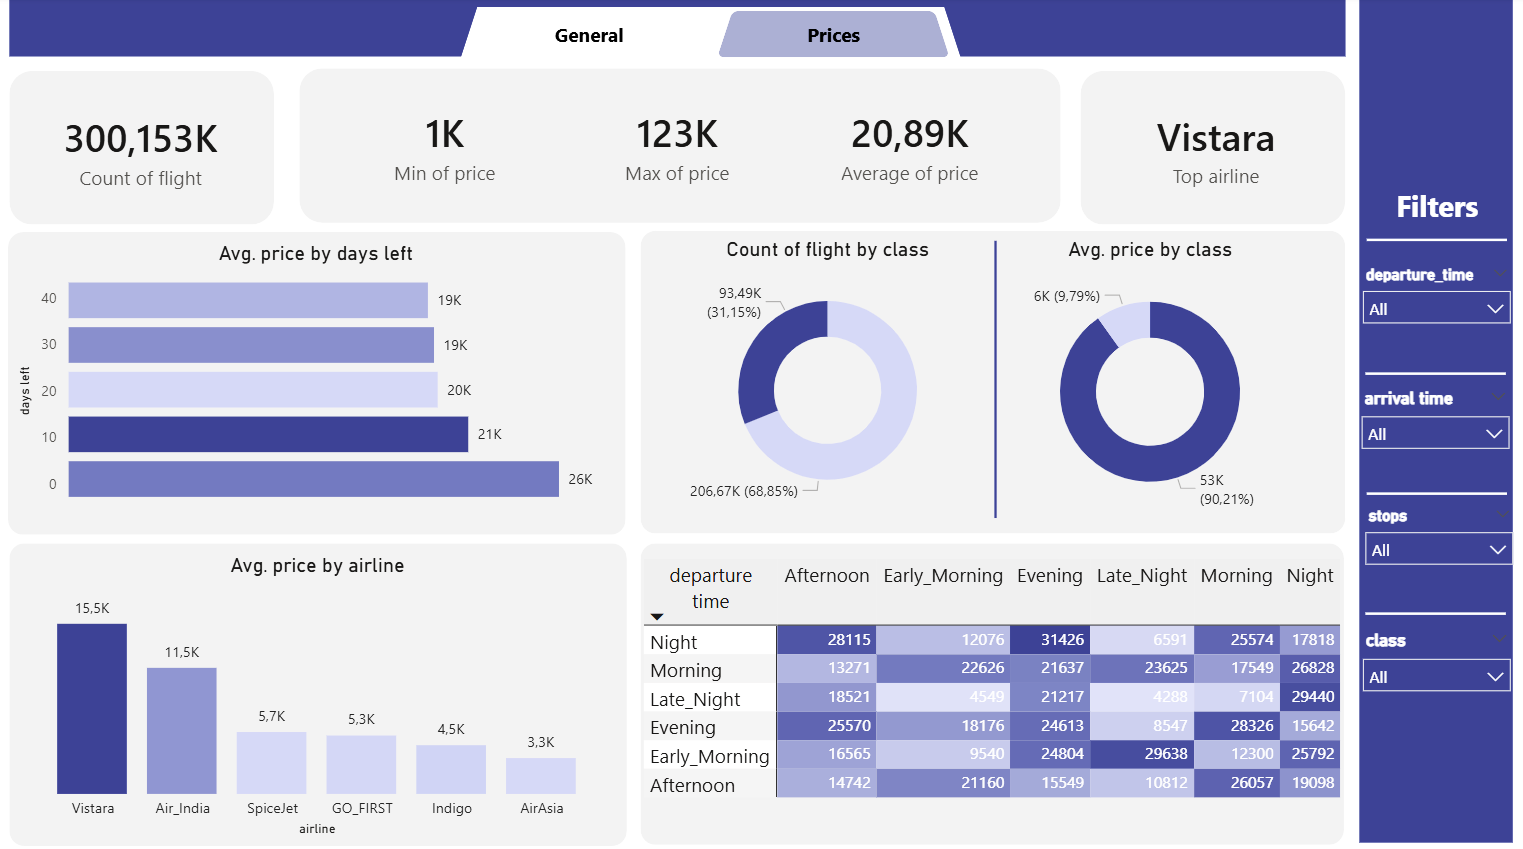

The page's visual inventory and layout, read from the dashboard file:
{"tool":"powerbi","page":{"name":"Prices ","canvas":[1280,720],"ordinal":1},"visuals":[{"type":"shape","box":[9.6,458,518,254],"z":0},{"type":"shape","box":[8.4,196.9,518,254],"z":1000},{"type":"shape","box":[538.4,196,591,254],"z":2000},{"type":"shape","box":[538.4,458,590,253],"z":3000},{"type":"shape","box":[1141.9,0,129.1,709.3],"z":4000},{"type":"shape","box":[9.3,61.6,222.1,129.1],"z":5000},{"type":"shape","box":[908.1,61.6,222.1,129.1],"z":6000},{"type":"shape","box":[252.2,60,638.8,129.7],"z":7000},{"type":"cardVisual","fields":{"Data":["CountNonNull(airlines_flights_data.flight)"]},"box":[4.7,27.9,231.4,201.2],"z":8000},{"type":"cardVisual","fields":{"Data":["Min(airlines_flights_data.price)","Max(airlines_flights_data.price)1","Avg(airlines_flights_data.price)2"]},"box":[264.2,49.2,612.4,150.1],"z":9000},{"type":"cardVisual","fields":{"Data":["Min(airllines_group.airline)"]},"box":[901.2,61.6,240.7,131.4],"z":10000},{"type":"slicer","fields":{"Values":["airlines_flights_data.class"]},"box":[1134.7,525.9,144.1,86.5],"z":11000},{"type":"slicer","fields":{"Values":["airlines_flights_data.stops"]},"box":[1135.9,422.7,144.1,86.5],"z":12000},{"type":"slicer","fields":{"Values":["airlines_flights_data.arrival_time"]},"box":[1133.5,323,144.1,86.5],"z":13000},{"type":"slicer","fields":{"Values":["airlines_flights_data.departure_time"]},"box":[1134.7,219.7,144.1,86.5],"z":14000},{"type":"shape","box":[9.3,0,1120.9,50],"z":15000},{"type":"shape","box":[388.4,8.1,419.8,43],"z":16000},{"type":"textbox","box":[1143.1,153.7,128.5,48],"z":17000},{"type":"shape","box":[1147.9,184.4,117.7,38.4],"z":18000},{"type":"shape","box":[1146.7,296.6,117.7,38.4],"z":19000},{"type":"shape","box":[1147.9,397.4,117.7,38.4],"z":20000},{"type":"shape","box":[1146.7,498.3,117.7,38.4],"z":21000},{"type":"barChart","title":"Avg. price by days left","fields":{"Category":["airlines_flights_data.days_left (bins)"],"Y":["Avg(airlines_flights_data.price)"]},"box":[12.8,204.7,508.1,232.6],"z":22000},{"type":"donutChart","title":"Avg. price by class","fields":{"Category":["airlines_flights_data.class"],"Y":["Median(airlines_flights_data.price)"]},"box":[824.4,201.2,284.9,240.7],"z":23000},{"type":"clusteredColumnChart","title":"Avg. price by airline","fields":{"Category":["airlines_flights_data.airline"],"Y":["Median(airlines_flights_data.price)"]},"box":[15.1,466.3,507,241.9],"z":24000},{"type":"pivotTable","fields":{"Rows":["airlines_flights_data.departure_time"],"Columns":["airlines_flights_data.arrival_time"],"Values":["Avg(airlines_flights_data.price)"]},"box":[537.2,466.3,596.5,244.2],"z":25000},{"type":"donutChart","fields":{"Y":["CountNonNull(airlines_flights_data.flight)"],"Category":["airlines_flights_data.class"]},"box":[553.5,201.2,284.9,238.4],"z":26000},{"type":"shape","box":[777.9,204.7,117.4,232.6],"z":26001},{"type":"pageNavigator","box":[398.8,11.6,400,39.5],"z":26002}]}

Visuals, with their boxes in screenshot pixels (x1, y1, x2, y2), scaled from the page's 1280x720 canvas onto the 1523x849 screenshot:
shape: (x1=11, y1=540, x2=628, y2=840)
shape: (x1=10, y1=232, x2=626, y2=532)
shape: (x1=641, y1=231, x2=1344, y2=531)
shape: (x1=641, y1=540, x2=1343, y2=838)
shape: (x1=1359, y1=0, x2=1512, y2=836)
shape: (x1=11, y1=73, x2=275, y2=225)
shape: (x1=1080, y1=73, x2=1345, y2=225)
shape: (x1=300, y1=71, x2=1060, y2=224)
cardVisual - CountNonNull(airlines_flights_data.flight): (x1=6, y1=33, x2=281, y2=270)
cardVisual - Min(airlines_flights_data.price) x Max(airlines_flights_data.price)1: (x1=314, y1=58, x2=1043, y2=235)
cardVisual - Min(airllines_group.airline): (x1=1072, y1=73, x2=1359, y2=228)
slicer - airlines_flights_data.class: (x1=1350, y1=620, x2=1522, y2=722)
slicer - airlines_flights_data.stops: (x1=1352, y1=498, x2=1522, y2=600)
slicer - airlines_flights_data.arrival_time: (x1=1349, y1=381, x2=1520, y2=483)
slicer - airlines_flights_data.departure_time: (x1=1350, y1=259, x2=1522, y2=361)
shape: (x1=11, y1=0, x2=1345, y2=59)
shape: (x1=462, y1=10, x2=962, y2=60)
textbox: (x1=1360, y1=181, x2=1513, y2=238)
shape: (x1=1366, y1=217, x2=1506, y2=263)
shape: (x1=1364, y1=350, x2=1504, y2=395)
shape: (x1=1366, y1=469, x2=1506, y2=514)
shape: (x1=1364, y1=588, x2=1504, y2=633)
"Avg. price by days left" barChart: (x1=15, y1=241, x2=620, y2=516)
"Avg. price by class" donutChart: (x1=981, y1=237, x2=1320, y2=521)
"Avg. price by airline" clusteredColumnChart: (x1=18, y1=550, x2=621, y2=835)
pivotTable - airlines_flights_data.departure_time x airlines_flights_data.arrival_time: (x1=639, y1=550, x2=1349, y2=838)
donutChart - CountNonNull(airlines_flights_data.flight) x airlines_flights_data.class: (x1=659, y1=237, x2=998, y2=518)
shape: (x1=926, y1=241, x2=1065, y2=516)
pageNavigator: (x1=475, y1=14, x2=950, y2=60)
